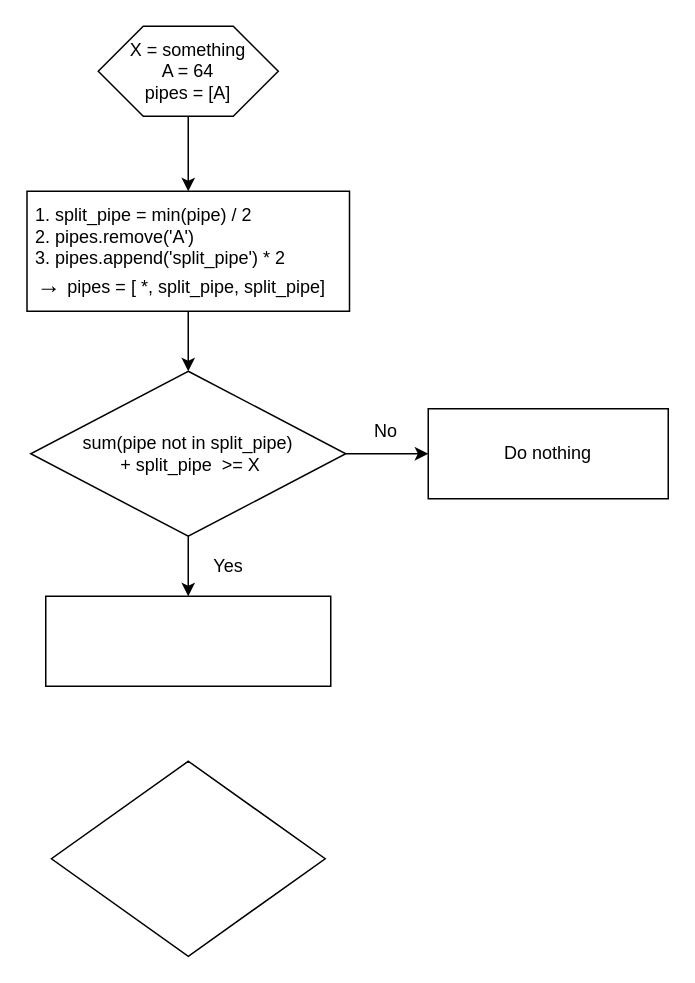
Image size: 695x983. Some labels were removed from this diagram. The centre of each missing label's shape, as x and y in pixels:
"pipes.remove('split_pipe') → pipes = [*, split_pipe]" goes at (187,640).
"sum(" goes at (187,858).
